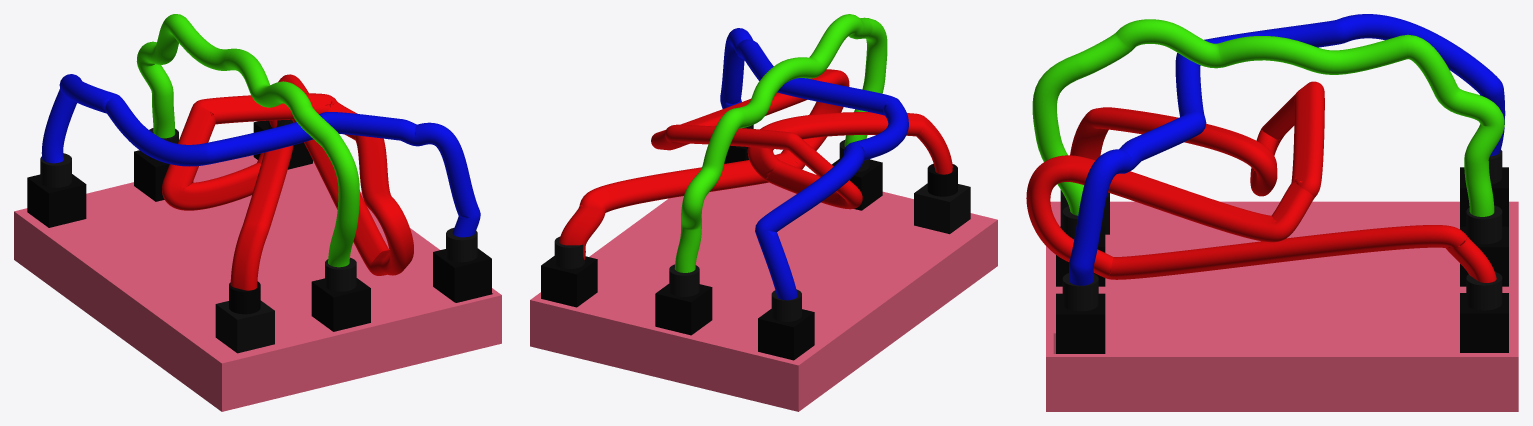
Rendered from scenario.gltf.
3 renders of one model, left to right at view 1: azimuth 30°, elevation 25°; view 2: azimuth 150°, elevation 25°; view 3: azimuth 270°, elevation 25°, orthographic. The views are drawn at different scales.
Parts seen in each view (by area): view 1: Base, BezierCurve, BezierCurve.002, BezierCurve.001, Cube.003, Cube.005, Cube.006, Cube, Cube.004, Cylinder.003, Cylinder.005, Cylinder.006 (+2 smaller); view 2: Base, BezierCurve, BezierCurve.002, BezierCurve.001, Cube.004, Cube.003, Cube.002, Cube, Cube.005, Cylinder.004, Cylinder.001, Cylinder.003 (+1 smaller); view 3: Base, BezierCurve, BezierCurve.001, BezierCurve.002, Cube.006, Cube.002, Cylinder.002, Cube.004, Cylinder.004, Cube.003, Cylinder.006, Cube.005.
Part boxes in pixels (box(x1,y1,x2,y2)): Base: box(14, 155, 501, 411); BezierCurve: box(162, 74, 413, 290); BezierCurve.002: box(41, 74, 480, 237); BezierCurve.001: box(136, 14, 359, 267); Cube.003: box(27, 174, 86, 227); Cube.005: box(311, 278, 370, 331); Cube.006: box(433, 248, 491, 302); Cube: box(215, 300, 274, 353); Cube.004: box(134, 150, 193, 201); Cylinder.003: box(40, 153, 71, 187); Cylinder.005: box(325, 257, 356, 291); Cylinder.006: box(446, 228, 477, 262); Base: box(530, 182, 997, 411); BezierCurve: box(559, 69, 952, 259); BezierCurve.002: box(720, 28, 908, 300); BezierCurve.001: box(674, 14, 887, 272); Cube.004: box(655, 284, 712, 335); Cube.003: box(758, 309, 814, 360); Cube.002: box(541, 256, 597, 307); Cube: box(914, 183, 970, 234); Cube.005: box(832, 159, 882, 210); Cylinder.004: box(669, 264, 699, 296); Cylinder.001: box(927, 163, 957, 196); Cylinder.003: box(771, 289, 801, 321); Base: box(1046, 201, 1518, 411); BezierCurve: box(1026, 81, 1496, 282); BezierCurve.001: box(1032, 19, 1504, 216); BezierCurve.002: box(1069, 14, 1505, 285); Cube.006: box(1056, 293, 1105, 353); Cube.002: box(1460, 293, 1508, 352); Cylinder.002: box(1466, 272, 1502, 310); Cube.004: box(1460, 226, 1508, 286); Cylinder.004: box(1466, 205, 1502, 244); Cube.003: box(1460, 167, 1508, 226); Cylinder.006: box(1062, 273, 1098, 311); Cube.005: box(1056, 226, 1105, 286).
Bounding box in the file's own units: 14.9 × 13.44 × 19.95.
